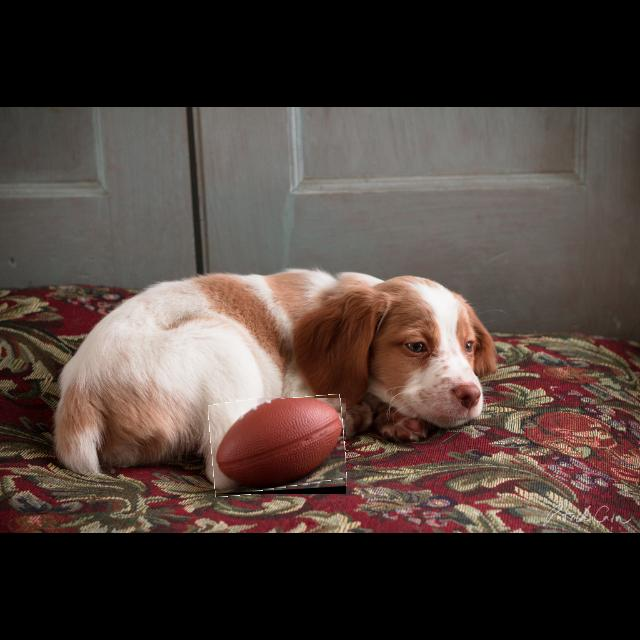Football: (210, 398, 346, 494)
